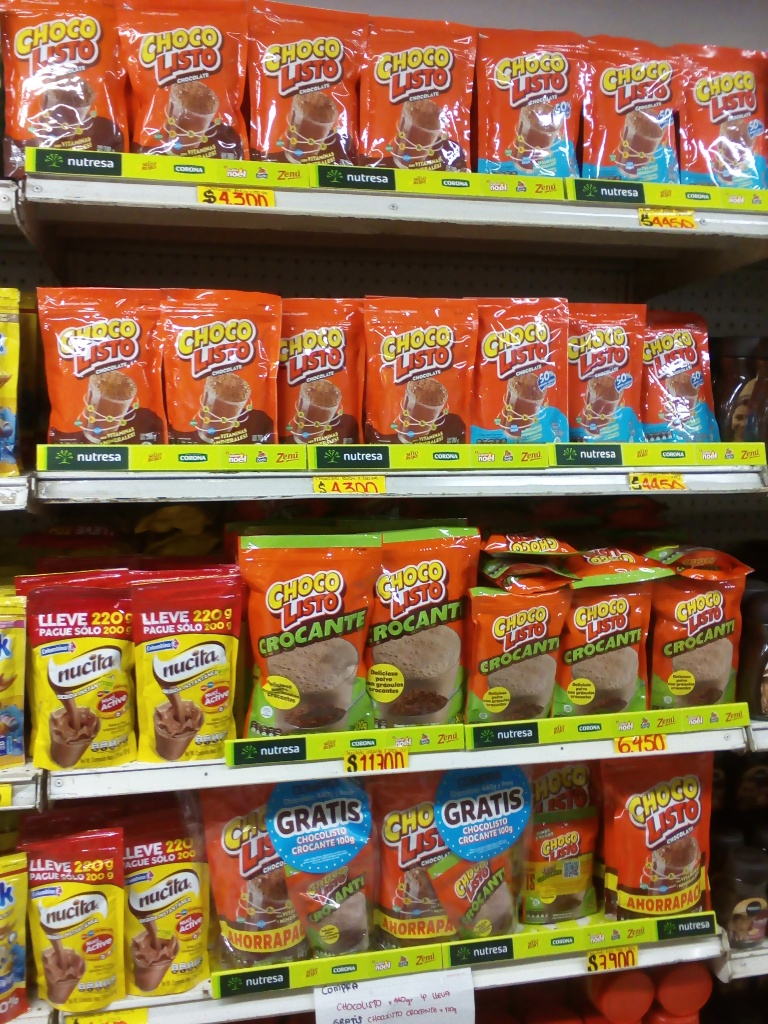COL0170102DYP10000: (271, 844, 392, 970)
COL0170102DYP25000: (463, 583, 564, 728)
COL0170102DYP50000: (236, 528, 384, 743)
COL0170103DYP20000: (1, 0, 151, 178)
COL0170103DYP44000: (201, 787, 325, 971)
COL0170104DYP20000: (471, 23, 589, 180)
